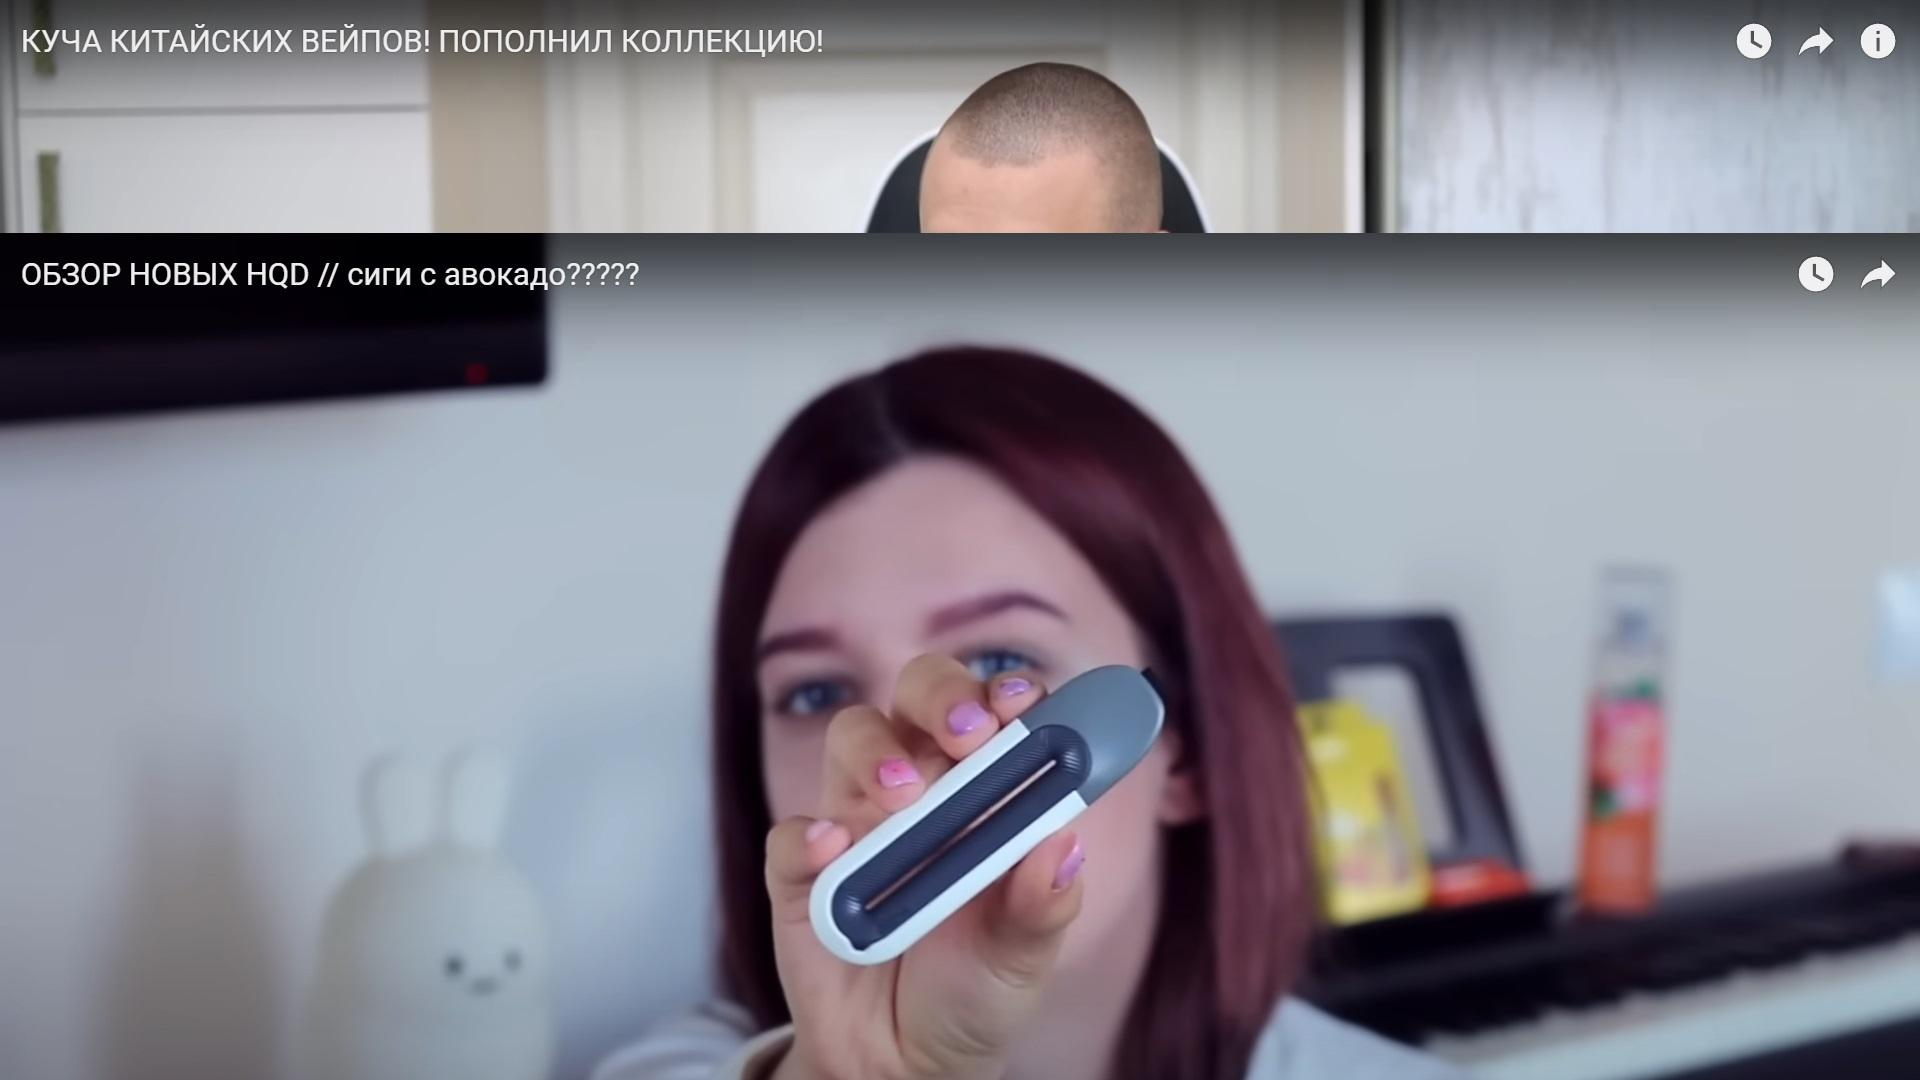Vape: (811, 665, 1164, 965)
